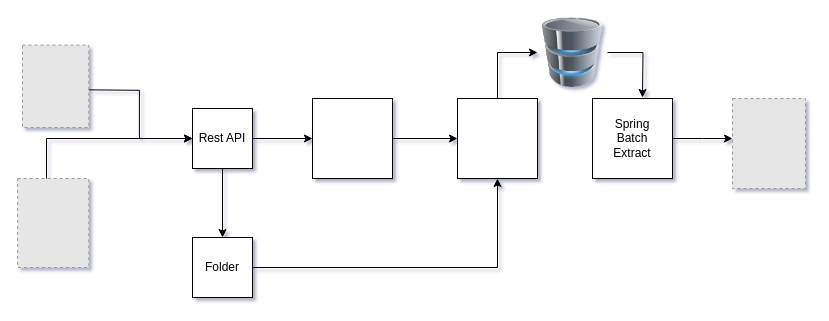
This 829x321 diagram has some shape labels left out. Grey dashed boxes stand in for pictures. Here are the shapes that lost their labels. From the top down, the box of each, then its label:
(312, 98, 392, 178): Apache Camel Seda Endpoint
(456, 98, 538, 178): Spring Batch Merge
